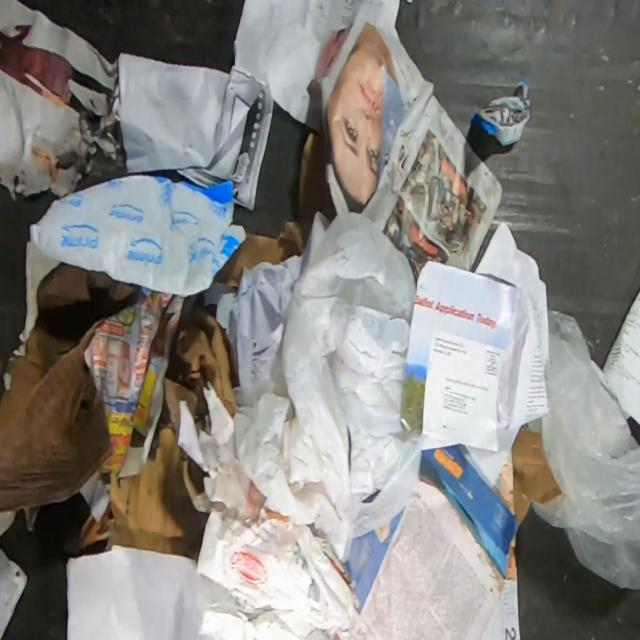cardboard: (64, 304, 234, 557), (0, 260, 141, 512), (214, 131, 330, 288), (512, 426, 563, 527)
soft_plastic: (237, 211, 422, 561), (531, 310, 640, 592), (29, 171, 245, 296), (469, 77, 530, 147)
